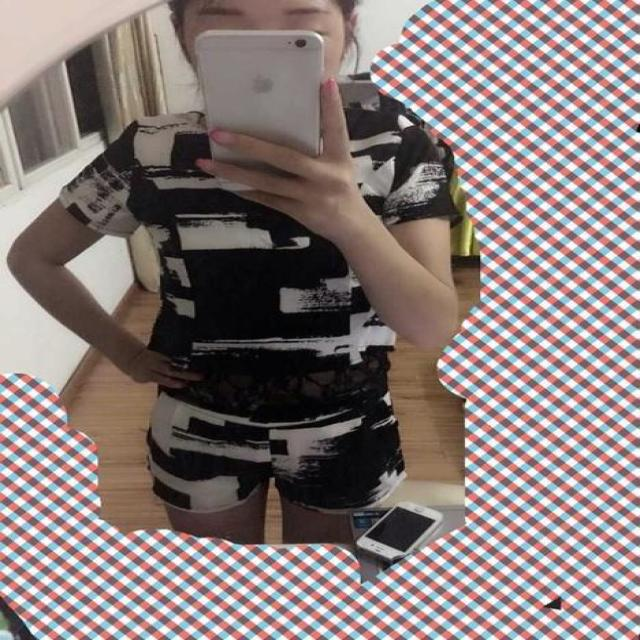short-sleeve-dress: (101, 89, 418, 508)
